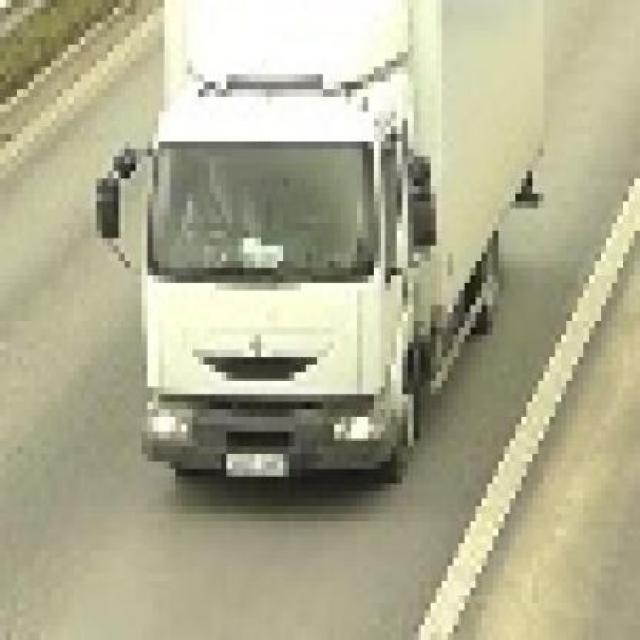truck: (90, 1, 544, 492)
